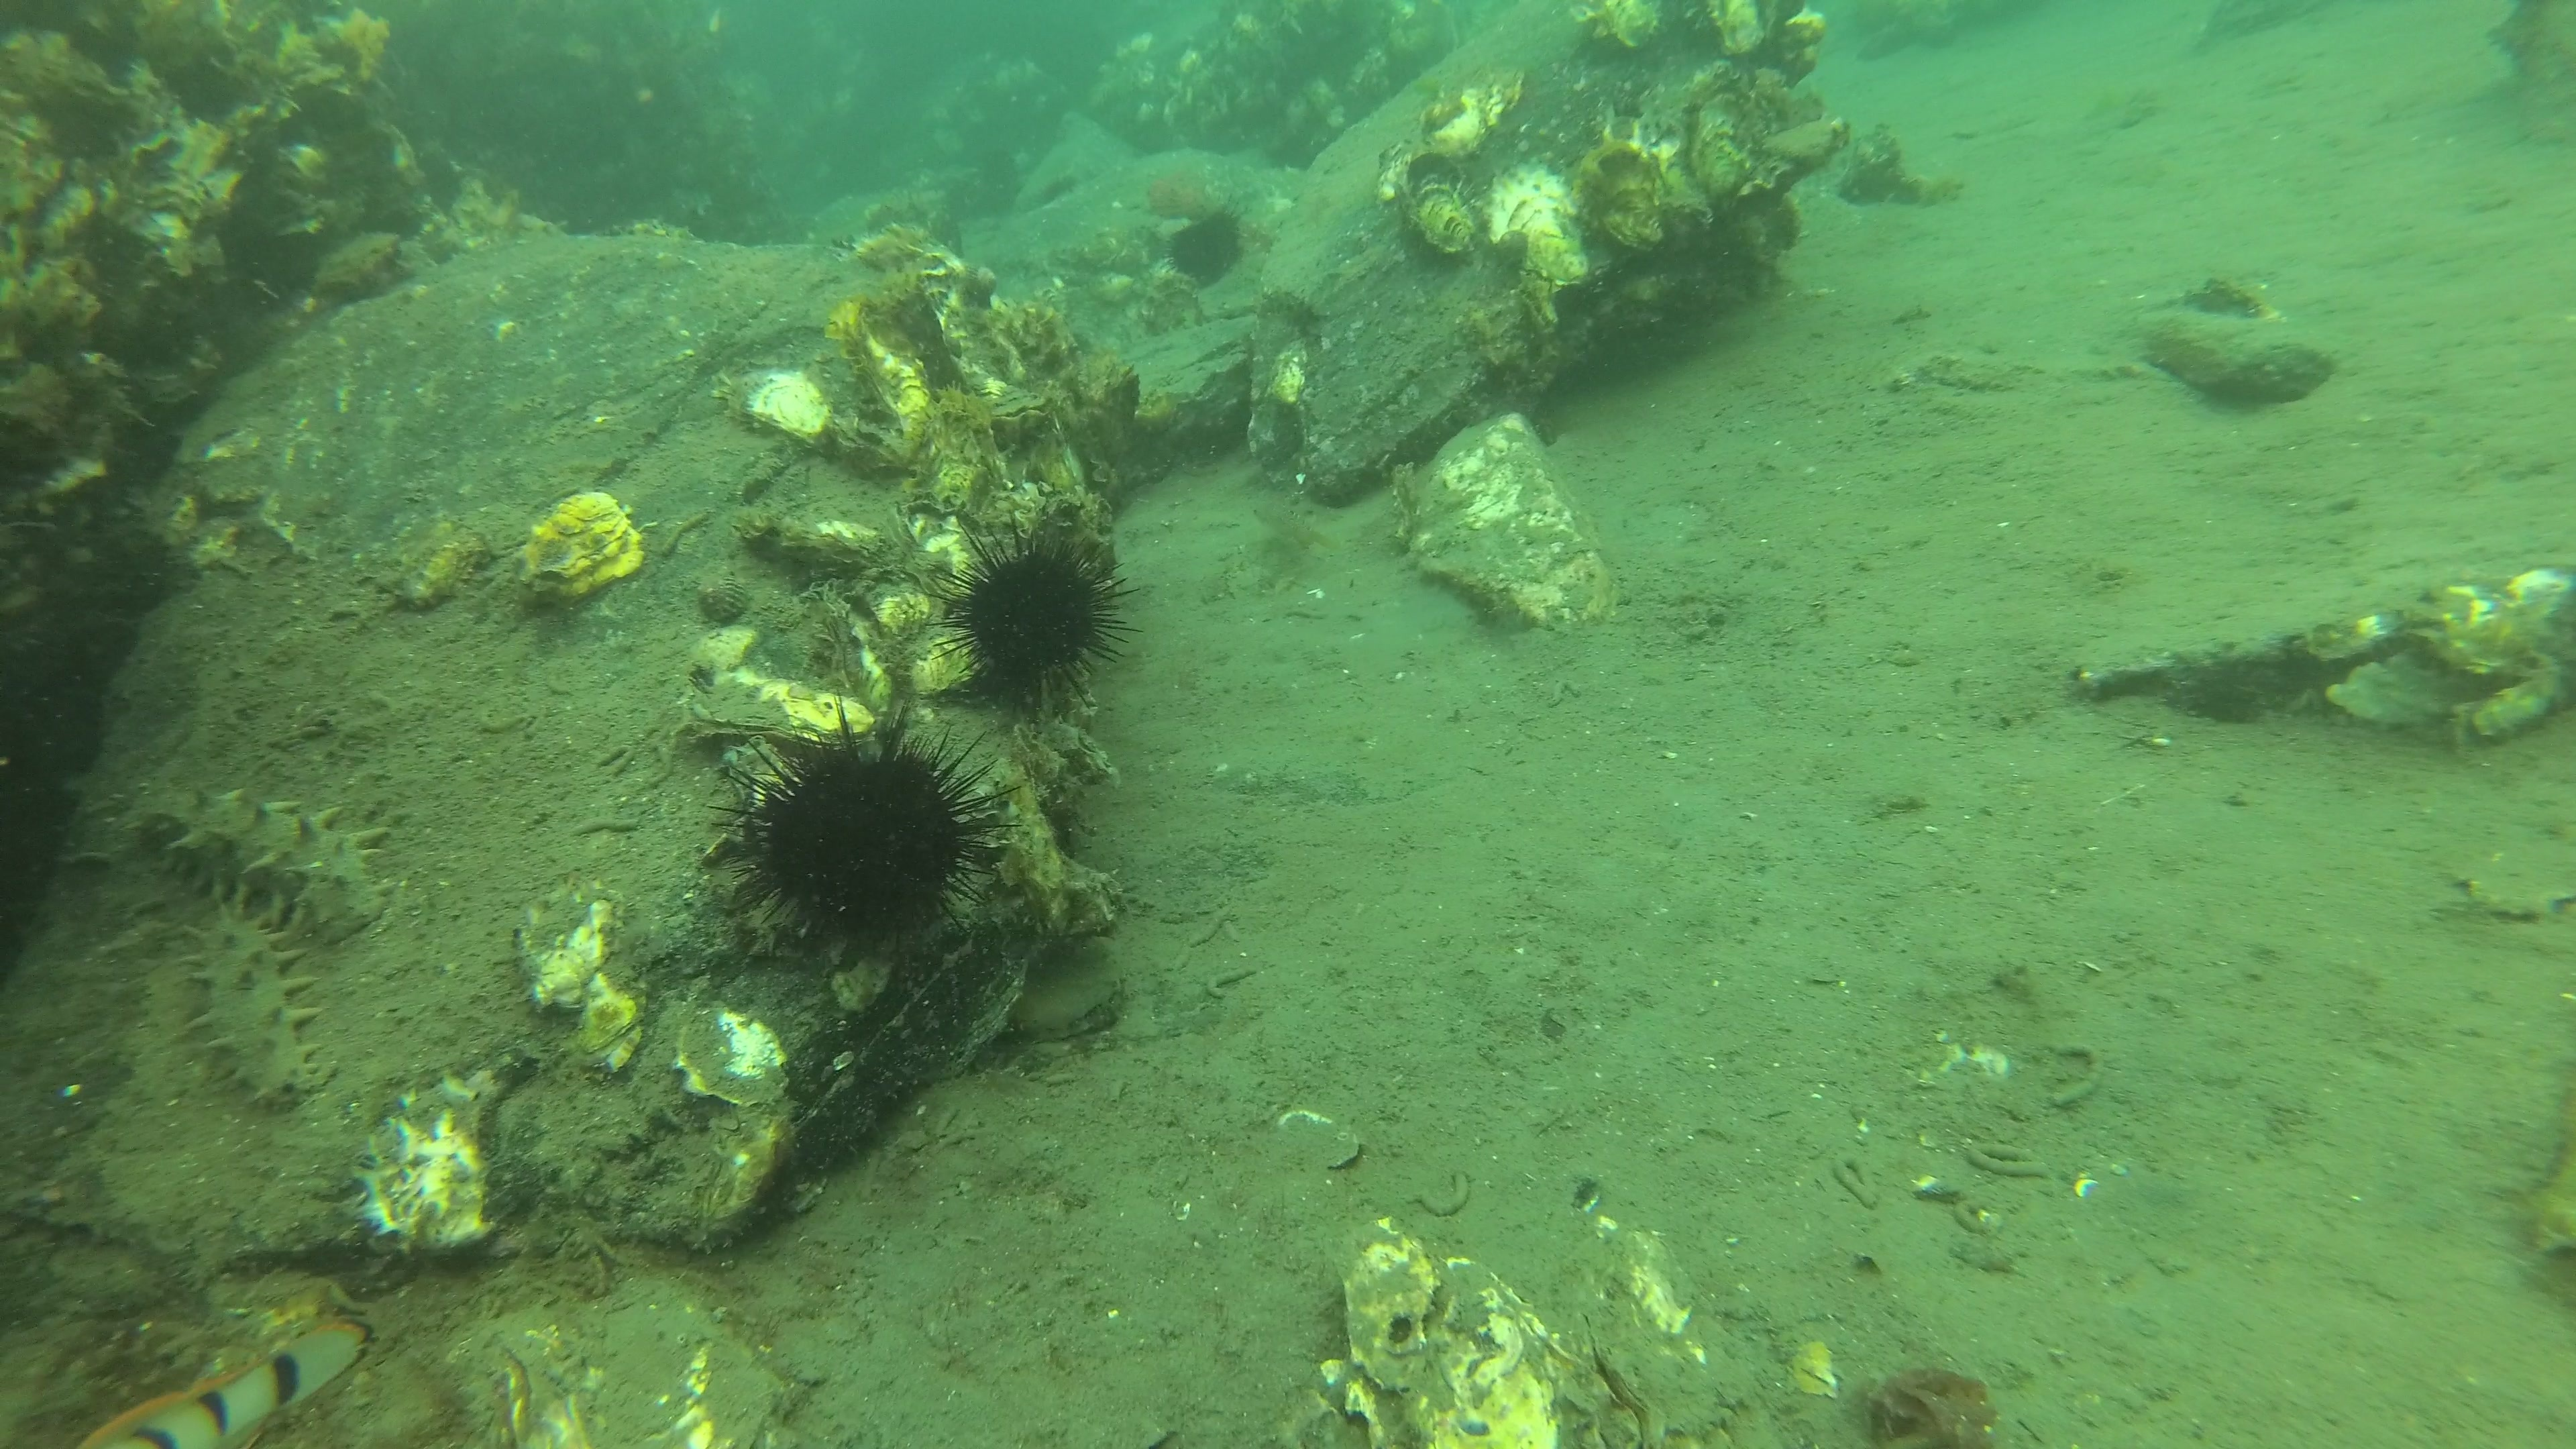echinus: (704, 713, 1024, 978), (918, 513, 1138, 727), (1145, 186, 1263, 304)
holothurian: (108, 778, 402, 931), (173, 895, 329, 1120)
